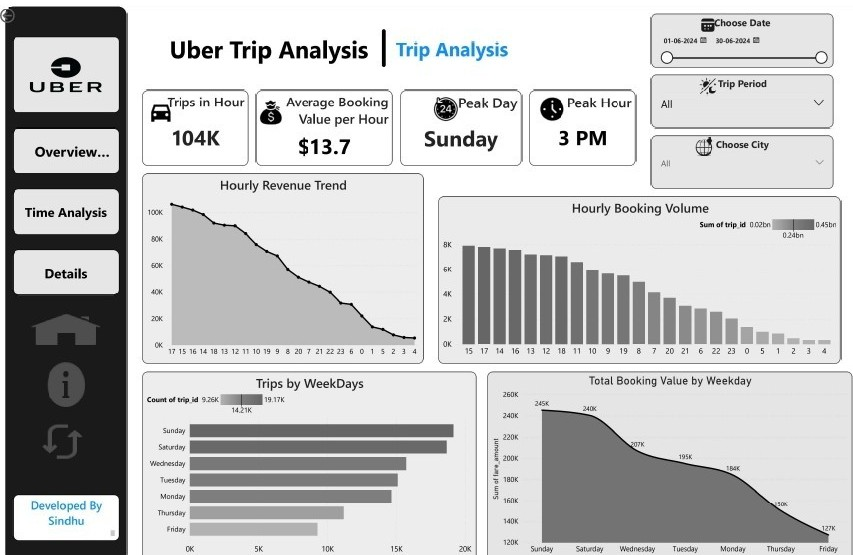

Layout of this report page (visuals, bound fields, positions):
{"tool":"powerbi","page":{"name":"Time Analysis","canvas":[1800,1200],"ordinal":1},"visuals":[{"type":"barChart","title":"Trips by WeekDays","fields":{"Category":["Trip Details.WeekDay Name"],"Y":["CountNonNull(Trip Details.trip_id)"]},"box":[304,768,704,400],"z":0},{"type":"textbox","title":"Developed By Sindhu","box":[32.2,1028.6,225.4,96.4],"z":0,"group":"g1"},{"type":"shape","box":[289.8,16.1,563.5,144.6],"z":1000,"group":"g1"},{"type":"lineChart","title":"Total Booking Value by Weekday","fields":{"Category":["Trip Details.WeekDay Name"],"Y":["Sum(Trip Details.fare_amount)"]},"box":[1032,768,768,400],"z":1000},{"type":"shape","box":[676.1,48.2,273.7,80.4],"z":2000,"group":"g1"},{"type":"columnChart","title":"Hourly Booking Volume","fields":{"Category":["Trip Details.pickup_hour"],"Y":["CountNonNull(Trip Details.trip_id)"]},"box":[928,400,848,352],"z":2000},{"type":"shape","box":[772.7,16.1,370.3,144.6],"z":3000,"group":"g1"},{"type":"areaChart","title":"Hourly Revenue Trend","fields":{"Category":["Trip Details.pickup_hour"],"Y":["Sum(Trip Details.fare_amount)"]},"box":[304,352,592,400],"z":3000},{"type":"actionButton","box":[0,0,100.6,40.2],"z":4000,"group":"g1"},{"type":"card","title":"Average Booking Value per Hour","fields":{"Values":["Trip Details.Avg Fare per Hour"]},"box":[544,176,288,160],"z":4000},{"type":"card","title":"Peak Hour","fields":{"Values":["Trip Details.Peak Hour Label"]},"box":[1120,176,224,160],"z":5000},{"type":"image","box":[96.6,739.3,96.6,112.5],"z":5000,"group":"g1"},{"type":"card","title":"Trips in Hour","fields":{"Values":["Trip Details.Total Hourly Trips"]},"box":[304,176,224,160],"z":6000},{"type":"image","box":[80.5,867.9,112.7,96.4],"z":6000,"group":"g1"},{"type":"slicer","title":"Trip Period","fields":{"Values":["Trip Details.trip_period"]},"box":[1376,144,384,112],"z":7000},{"type":"image","box":[64.4,642.9,161,80.4],"z":7000,"group":"g1"},{"type":"slicer","title":"Choose Date","fields":{"Values":["Trip Details.pickup_time"]},"box":[1376,16,384,112],"z":8000},{"type":"card","title":"Peak Day","fields":{"Values":["Trip Details.Peak Day"]},"box":[848,176,256,160],"z":9000},{"type":"shape","box":[16,0,256,1168],"z":10000},{"type":"actionButton","title":"Time Analysis","box":[32,384,224,96],"z":11000},{"type":"actionButton","title":"Details","box":[32,512,224,96],"z":12000},{"type":"actionButton","box":[32,256,224,96],"z":13000},{"type":"slicer","title":"Choose City","fields":{"Values":["Location Table.City"]},"box":[1376,272,384,112],"z":14000},{"type":"image","box":[32,64,224,160],"z":15000},{"type":"image","box":[1424,16,144,48],"z":20000},{"type":"image","box":[1440,144,112,48],"z":21000},{"type":"image","box":[1440,272,96,48],"z":22000},{"type":"image","box":[304,192,80,64],"z":23000},{"type":"image","box":[528,192,96,64],"z":24000},{"type":"image","box":[1136,176,64,80],"z":25000},{"type":"image","box":[912,176,64,80],"z":26000},{"type":"group","id":"g1","title":"Group 1","box":[0,0,1143,1125],"z":27004}]}

Visuals, with their boxes in screenshot pixels (x1, y1, x2, y2), scaled from the page's 1800x1200 canvas onto the 853x555 screenshot:
"Trips by WeekDays" barChart: x1=144 y1=355 x2=478 y2=540
"Developed By Sindhu" textbox: x1=15 y1=476 x2=122 y2=520
shape: x1=137 y1=7 x2=404 y2=74
"Total Booking Value by Weekday" lineChart: x1=489 y1=355 x2=852 y2=540
shape: x1=320 y1=22 x2=450 y2=59
"Hourly Booking Volume" columnChart: x1=440 y1=185 x2=842 y2=348
shape: x1=366 y1=7 x2=542 y2=74
"Hourly Revenue Trend" areaChart: x1=144 y1=163 x2=425 y2=348
actionButton: x1=0 y1=0 x2=48 y2=19
"Average Booking Value per Hour" card: x1=258 y1=81 x2=394 y2=155
"Peak Hour" card: x1=531 y1=81 x2=637 y2=155
image: x1=46 y1=342 x2=92 y2=394
"Trips in Hour" card: x1=144 y1=81 x2=250 y2=155
image: x1=38 y1=401 x2=92 y2=446
"Trip Period" slicer: x1=652 y1=67 x2=834 y2=118
image: x1=31 y1=297 x2=107 y2=335
"Choose Date" slicer: x1=652 y1=7 x2=834 y2=59
"Peak Day" card: x1=402 y1=81 x2=523 y2=155
shape: x1=8 y1=0 x2=129 y2=540
"Time Analysis" actionButton: x1=15 y1=178 x2=121 y2=222
"Details" actionButton: x1=15 y1=237 x2=121 y2=281
actionButton: x1=15 y1=118 x2=121 y2=163
"Choose City" slicer: x1=652 y1=126 x2=834 y2=178
image: x1=15 y1=30 x2=121 y2=104
image: x1=675 y1=7 x2=743 y2=30
image: x1=682 y1=67 x2=735 y2=89
image: x1=682 y1=126 x2=728 y2=148
image: x1=144 y1=89 x2=182 y2=118
image: x1=250 y1=89 x2=296 y2=118
image: x1=538 y1=81 x2=569 y2=118
image: x1=432 y1=81 x2=463 y2=118
"Group 1" group: x1=0 y1=0 x2=542 y2=520
